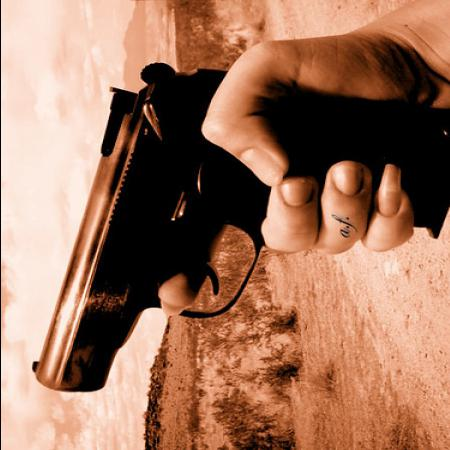Pistol: (23, 64, 449, 397)
